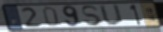0: (42, 6, 61, 28)
1: (130, 4, 143, 26)
2: (21, 6, 43, 29)
9: (61, 5, 81, 28)
S: (81, 5, 104, 27)
U: (98, 3, 125, 27)
